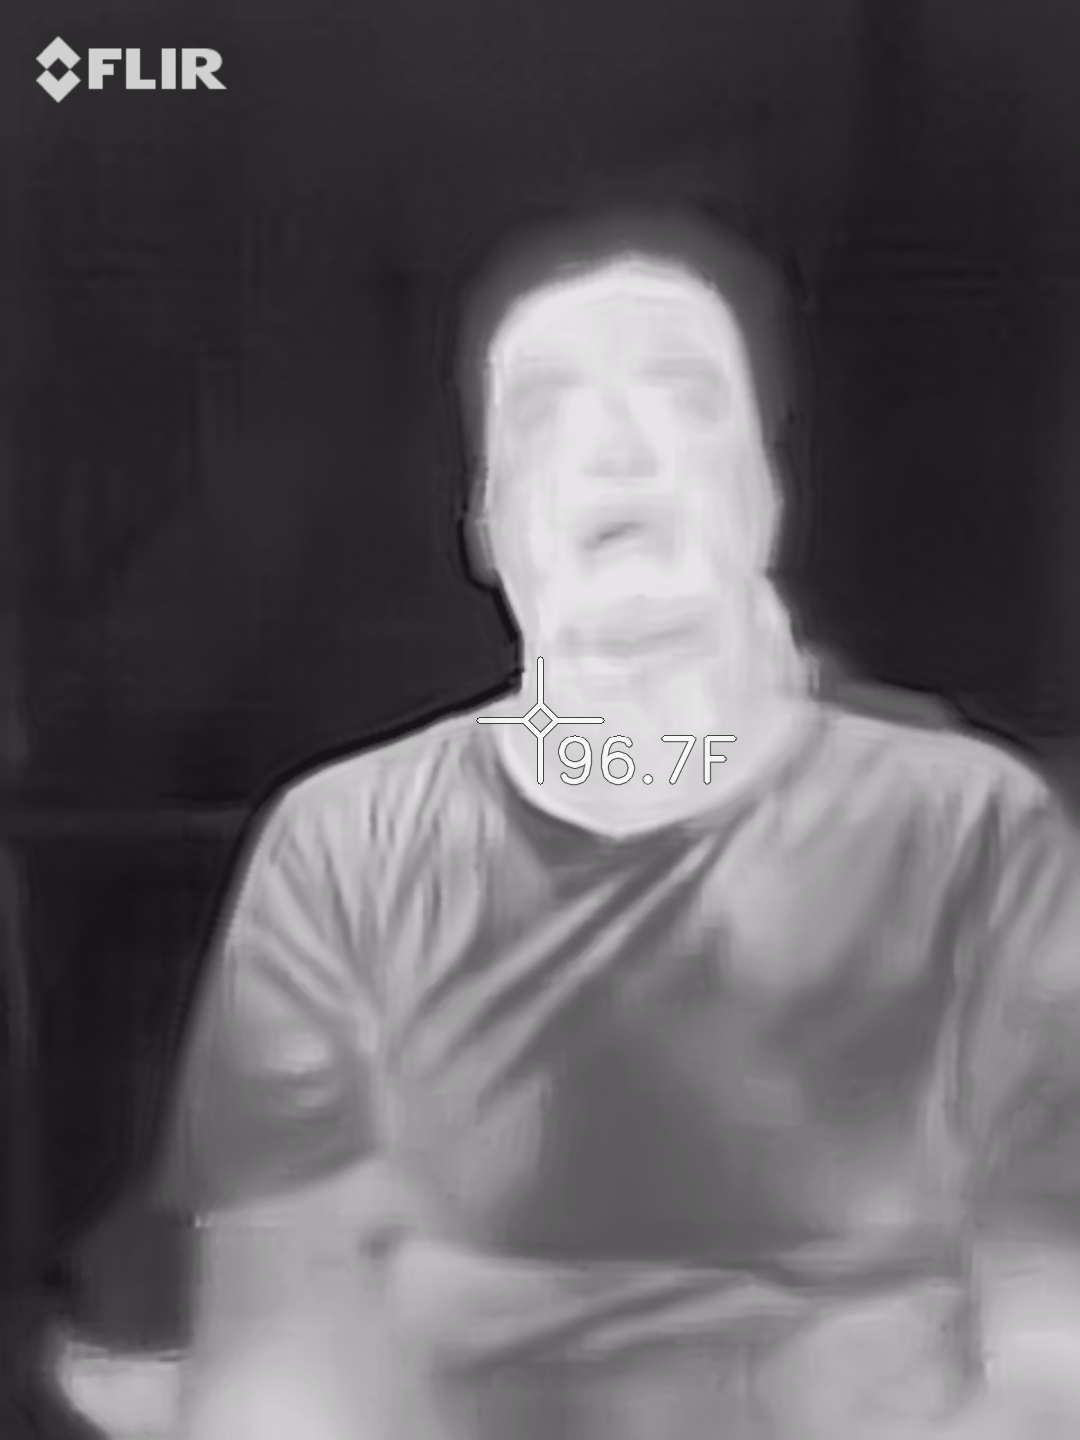head: (456, 210, 824, 659)
